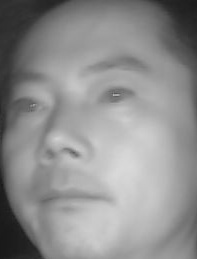eye: (95, 82, 136, 109), (7, 93, 48, 119)
mouth: (35, 179, 111, 217)
